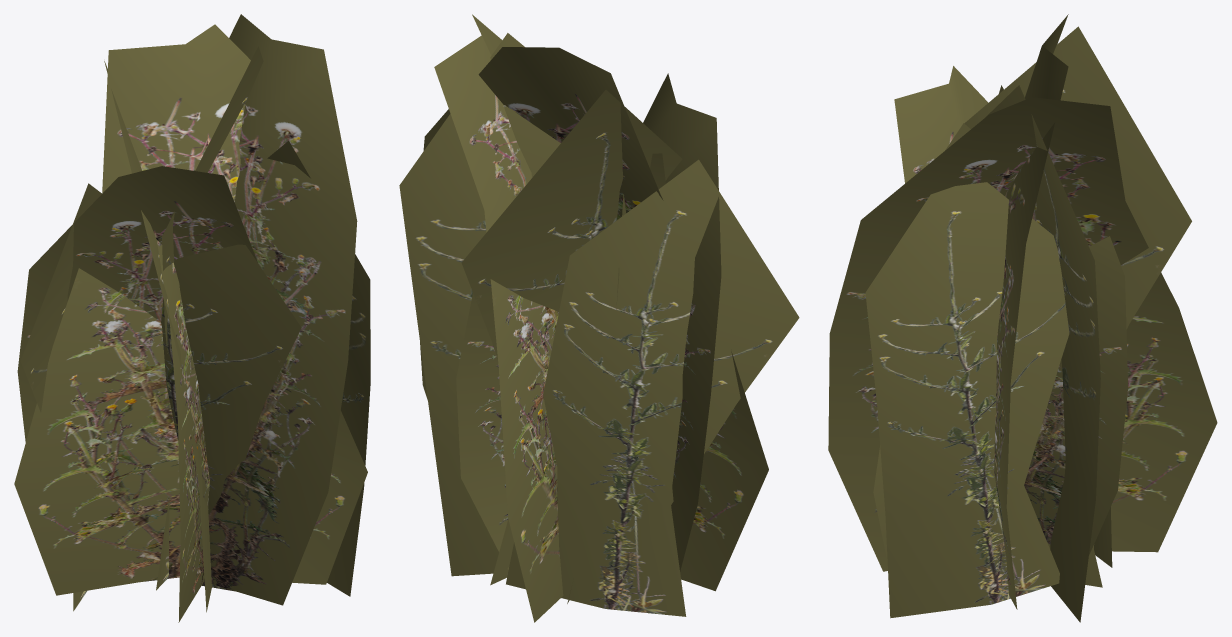
Rendered from Grass_01.fbx.
The picture shows the model from 3 angles, left to right: view 1: azimuth 30°, elevation 25°; view 2: azimuth 150°, elevation 25°; view 3: azimuth 270°, elevation 25°; orthographic projection.
Visible parts, largest first — view 1: Grass_01; view 2: Grass_01; view 3: Grass_01.
Part boxes in pixels (box(x1,y1,x2,y2)): Grass_01: box(14, 14, 370, 622); Grass_01: box(399, 14, 799, 622); Grass_01: box(828, 14, 1217, 622).
Bounding box in the file's own units: 73.72 × 105 × 68.33.
1 material, 1 textured.
